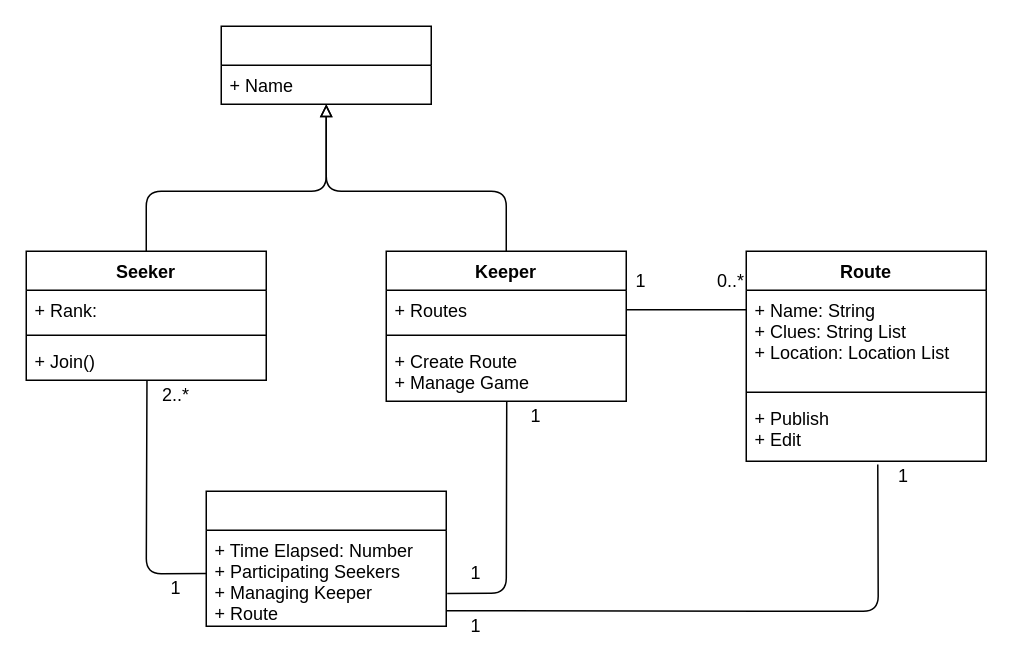
Some shapes in this 1013 by 668 pixel diagram are drawn without their labels. The shapes that lost their labels are listed below. From the top down, each one's box as (x1, y1, x2, y2) in pixels, then its label:
(220, 25, 431, 104): Person
(205, 490, 446, 626): Game Session
